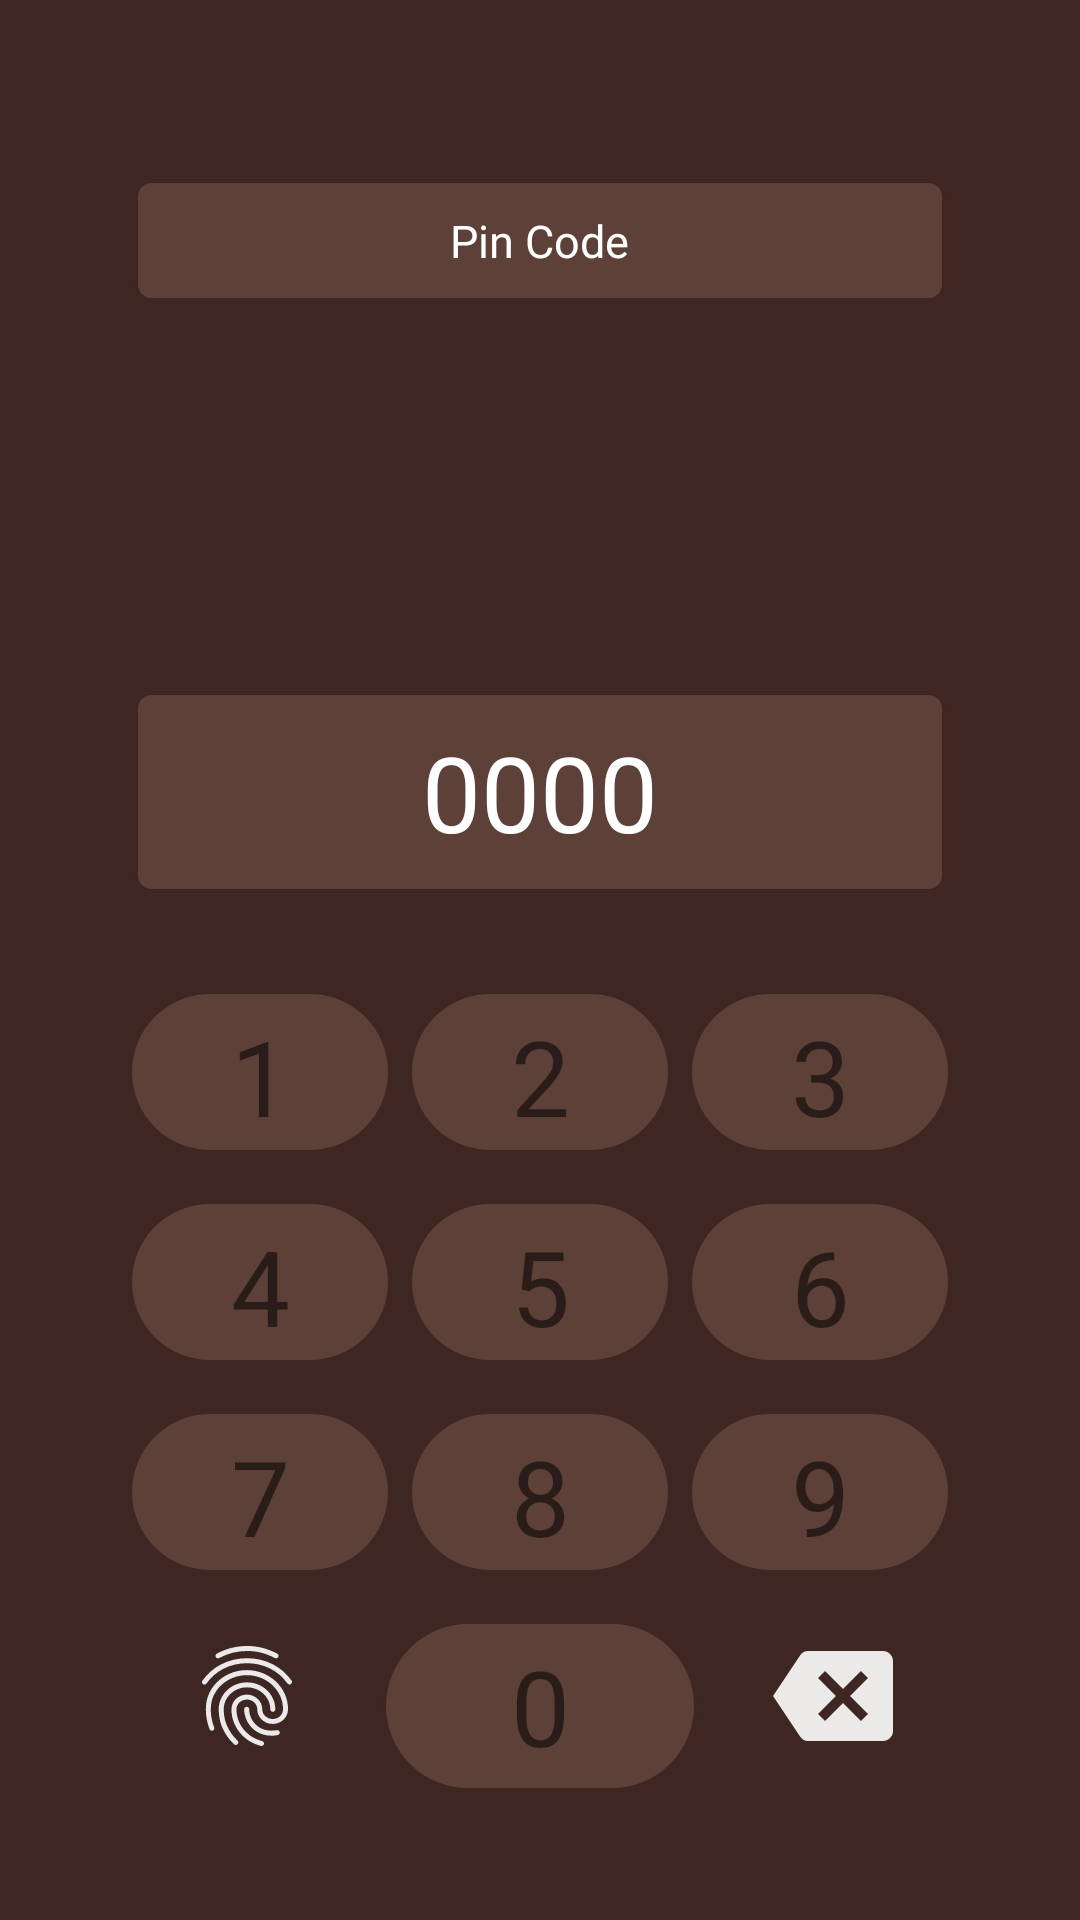

Screen size 1080x1920. Icon name, then its center in pixels as (x=x, y=y):
backspace: (x=833, y=1696)
fingerprint: (x=247, y=1696)
